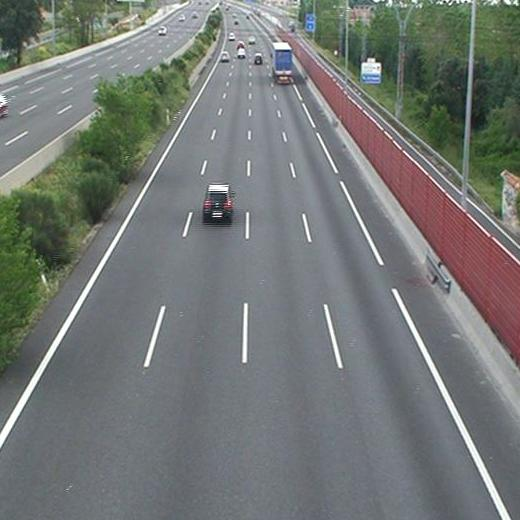car: (203, 185, 233, 219), (253, 53, 263, 64), (237, 48, 247, 59), (221, 51, 230, 61)
truck: (272, 42, 290, 83)
